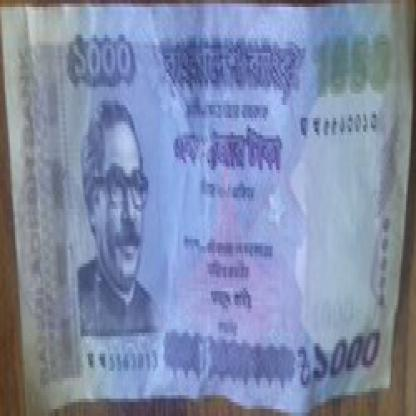One Thousand taka: (310, 35, 392, 97), (293, 336, 391, 385), (64, 35, 142, 90)
